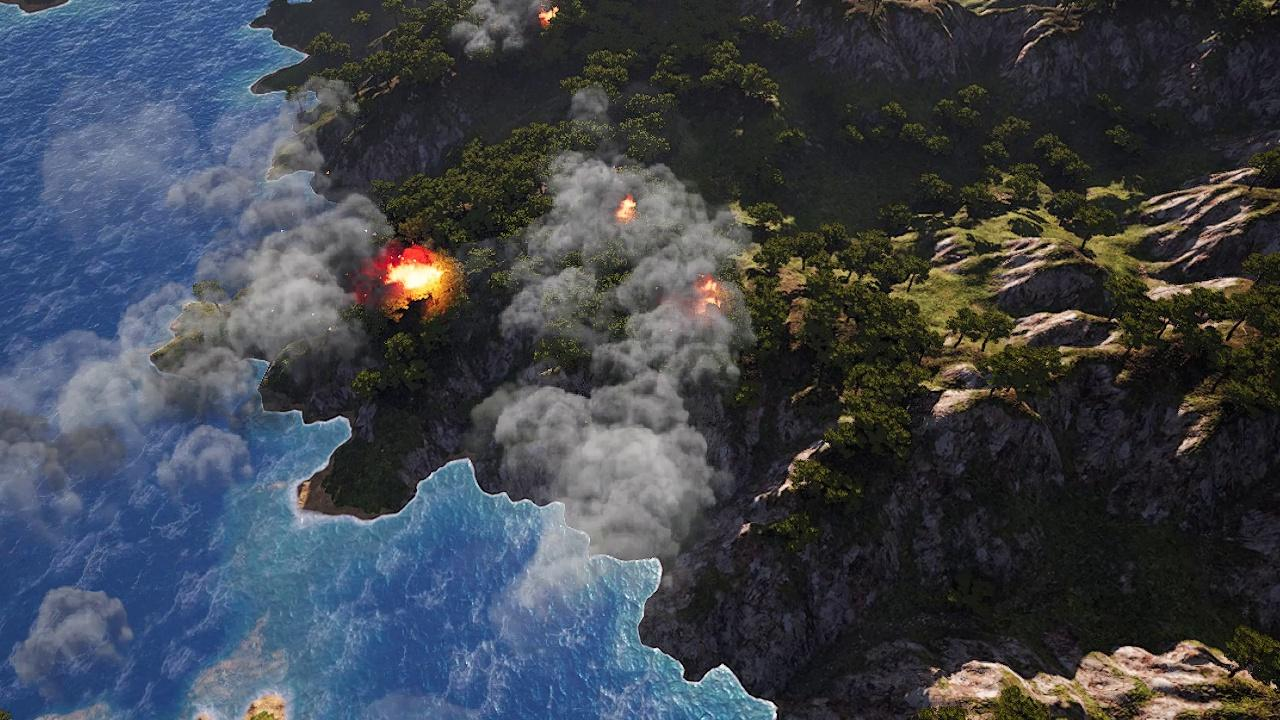fire: (384, 246, 449, 301), (689, 277, 732, 318), (615, 194, 639, 223), (538, 9, 559, 27)
smoke: (0, 95, 394, 720), (431, 133, 754, 637), (443, 0, 542, 54)
